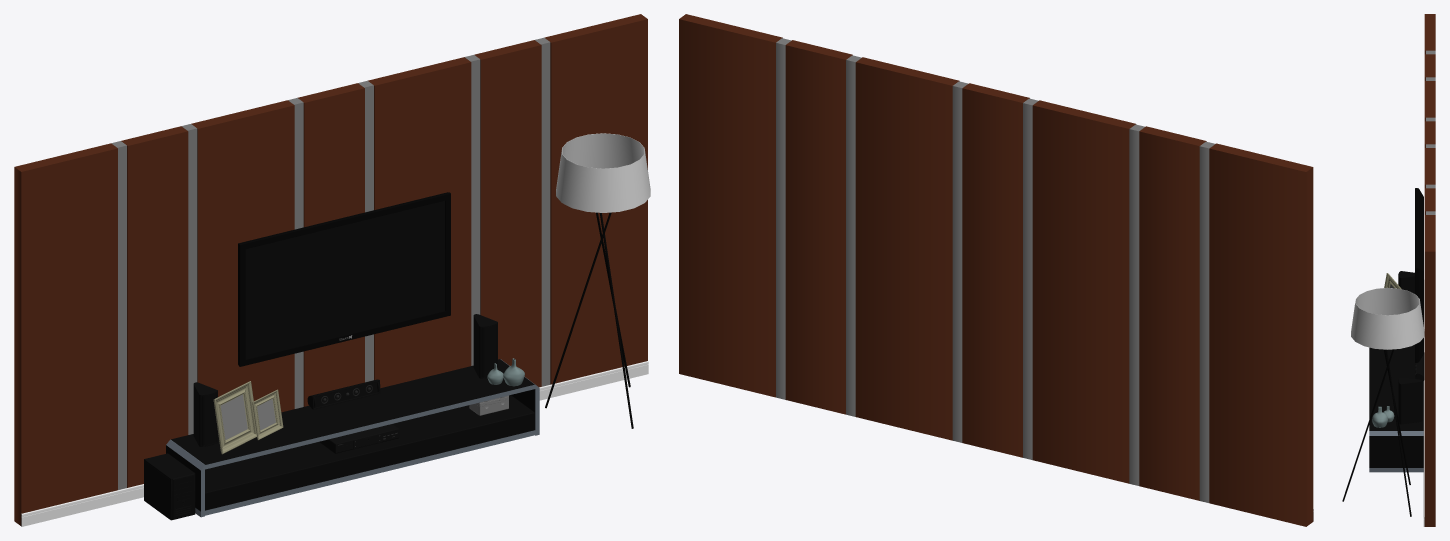
File: muebleparatv2.fbx
3 renders of one model, left to right at view 1: azimuth 30°, elevation 25°; view 2: azimuth 150°, elevation 25°; view 3: azimuth 270°, elevation 25°, orthographic. The views are drawn at different scales.
Visible parts, largest first — view 1: objBox06, obj____, objBox01, objBox03, objCylinder01, objRectangle01, objhua, objobj_02, objLine01, objVCD_1, objobj_07, objhua01 (+2 smaller); view 2: objBox06, objBox03; view 3: objBox06, objBox01, objCylinder01, obj____, objobj_08, objLine01, objRectangle01, objobj_10, objobj_07, objBox03, objw_cg_taobao_com________464, objhua.
Boxes of the visible parts, left/top/right/bottom form: objBox06: left=14, top=14, right=647, bottom=525; obj____: left=238, top=192, right=450, bottom=366; objBox01: left=166, top=359, right=539, bottom=517; objBox03: left=111, top=37, right=550, bottom=489; objCylinder01: left=556, top=133, right=650, bottom=212; objRectangle01: left=21, top=361, right=648, bottom=526; objhua: left=213, top=381, right=256, bottom=454; objobj_02: left=144, top=453, right=193, bottom=519; objLine01: left=545, top=212, right=633, bottom=428; objVCD_1: left=319, top=424, right=399, bottom=453; objobj_07: left=307, top=324, right=496, bottom=409; objhua01: left=252, top=389, right=283, bottom=440; objBox06: left=679, top=14, right=1313, bottom=526; objBox03: left=776, top=38, right=1214, bottom=502; objBox06: left=1424, top=14, right=1435, bottom=526; objBox01: left=1369, top=344, right=1423, bottom=472; objCylinder01: left=1351, top=287, right=1424, bottom=349; obj____: left=1415, top=188, right=1423, bottom=362; objobj_08: left=1398, top=374, right=1422, bottom=424; objLine01: left=1342, top=349, right=1411, bottom=516; objRectangle01: left=1423, top=279, right=1424, bottom=526; objobj_10: left=1398, top=271, right=1414, bottom=293; objobj_07: left=1398, top=352, right=1424, bottom=422; objBox03: left=1426, top=50, right=1435, bottom=214; objw_cg_taobao_com________464: left=1372, top=406, right=1387, bottom=427; objhua: left=1384, top=273, right=1401, bottom=289.
Bounding box in the file's own units: 204 × 110 × 33.87.
